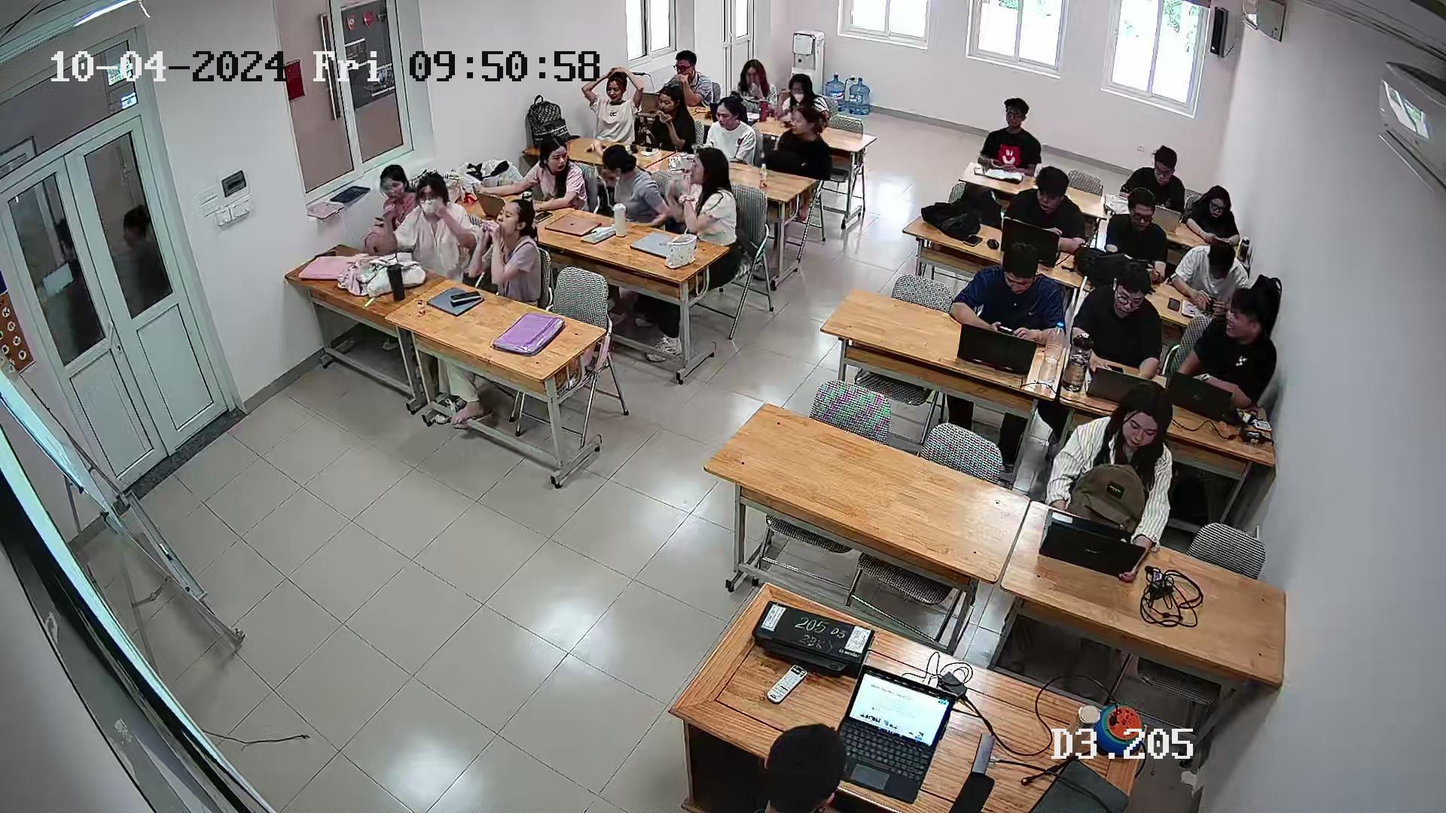Look Around: (528, 136, 592, 207), (677, 143, 725, 228), (599, 148, 658, 216), (1223, 289, 1272, 363)
phone: (992, 317, 1023, 339), (1203, 285, 1220, 324), (1105, 356, 1134, 378)
